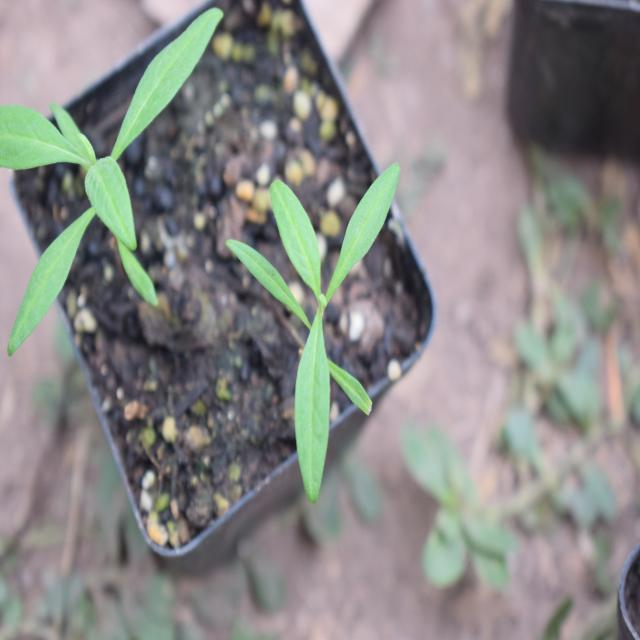white_smart_weed: (222, 160, 426, 495), (0, 34, 221, 310)
